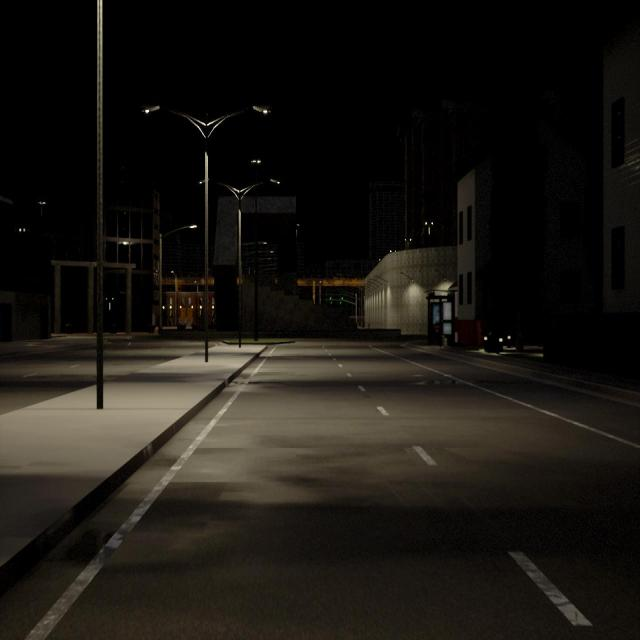traffic_light: (329, 297, 332, 301), (340, 297, 343, 300), (339, 302, 342, 304), (331, 302, 332, 304)
